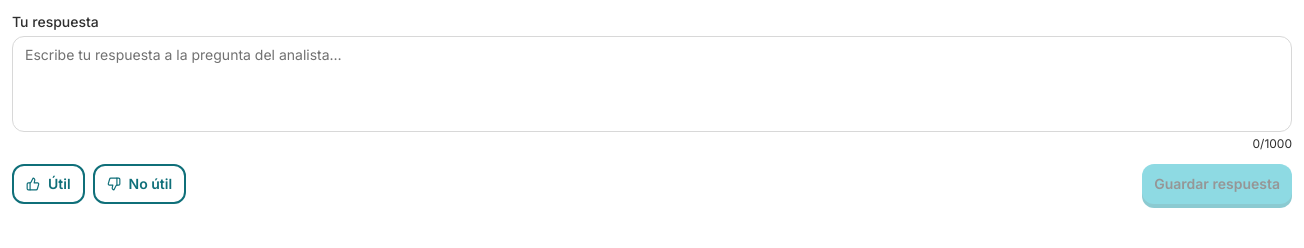
Test: CoachAnswerForm › envía el texto y muestra confirmación de guardado
The image size is (1304, 248).
Step 1. Type "Se sintió cómodo en el tramo técnico." into the text box labelled "Tu respuesta" → [652, 84], box 12,36 -> 1292,132
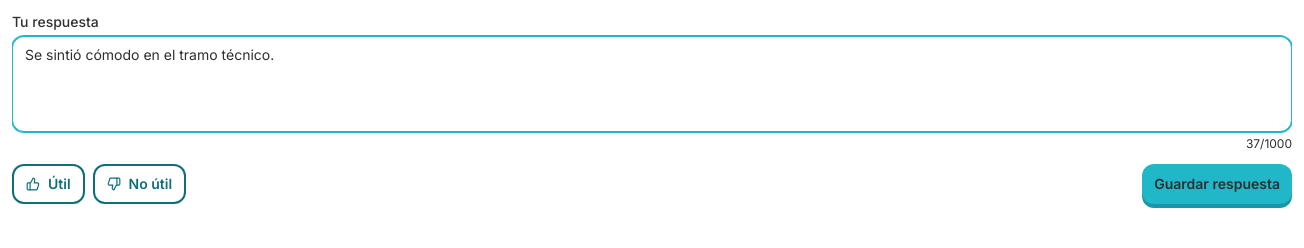
Step 2. Click the button "Guardar respuesta" → [1217, 184], box 1142,164 -> 1292,204
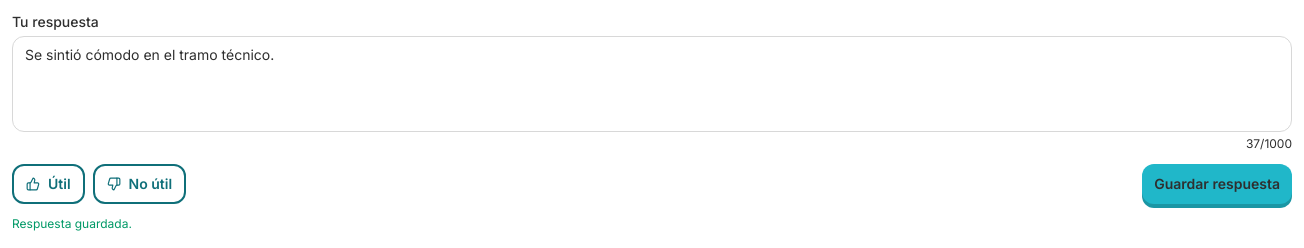
Expected: the text "Respuesta guardada." is shown, 12,216 -> 132,231
